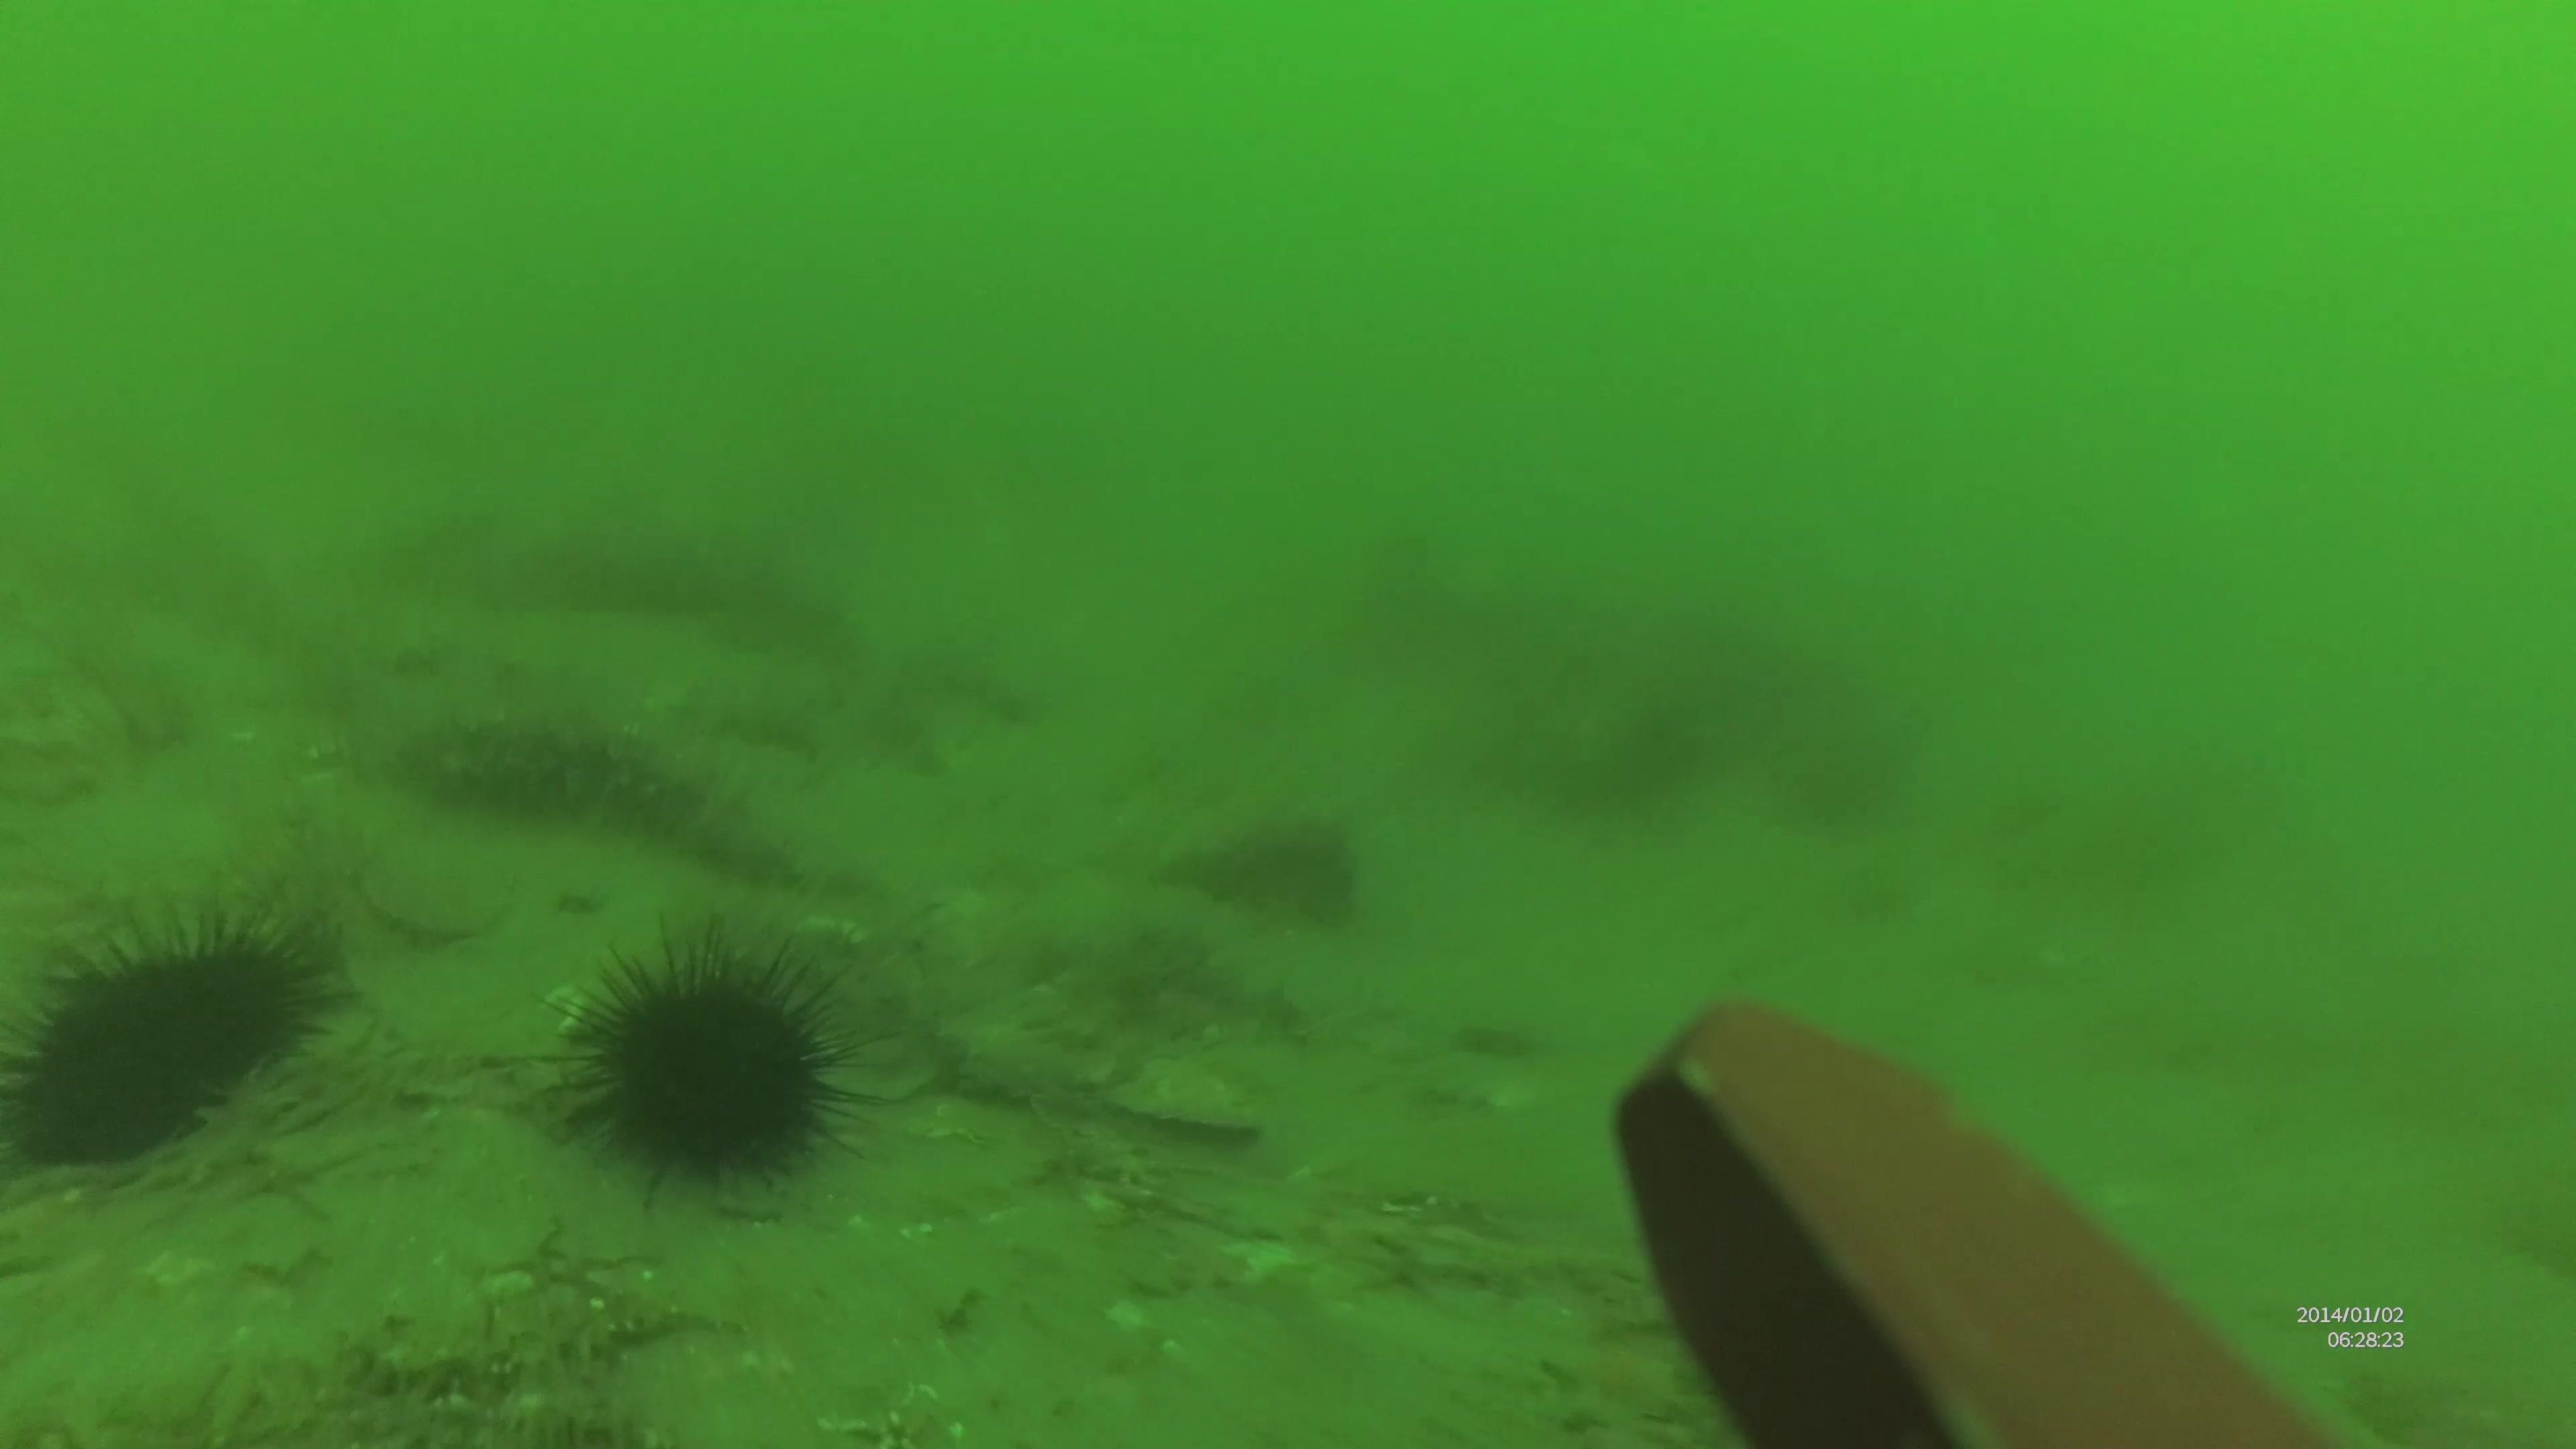echinus: (525, 908, 879, 1219), (4, 895, 359, 1171)
holothurian: (391, 711, 810, 897)
scallop: (1109, 1049, 1269, 1145)
